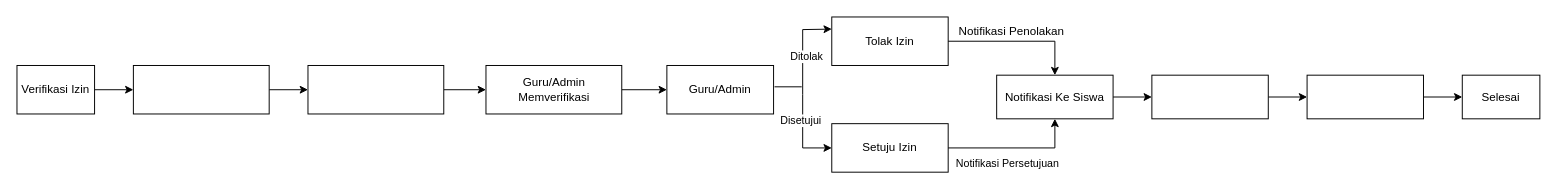
Image size: 1557x189. Some labels were removed from this diagram. The shapes that lost their labels are listed below. From the top down, each one's centre as x and y in pixels, then its label:
the point at 200,89: Siswa Mengajukan Izin
the point at 375,89: Sistem Menerima Permintaan
the point at 1209,96: Data Masuk Kelaporan
the point at 1364,96: Laporan Rekap Izin
